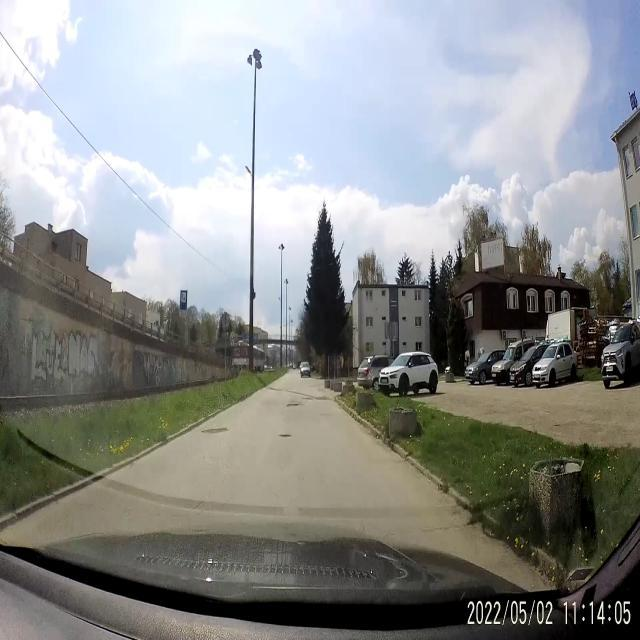Pothole: (200, 424, 232, 438), (274, 422, 293, 441), (284, 399, 303, 409)
